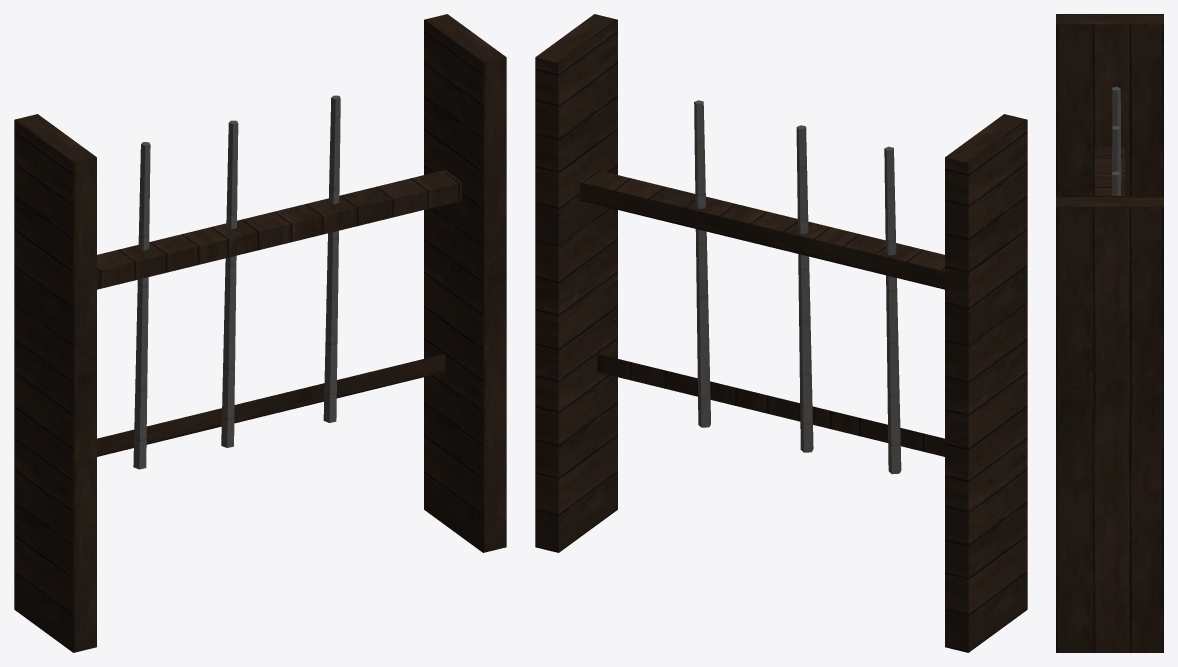
The model's file is weapon_rack_01.glb.
3 renders of one model, left to right at view 1: azimuth 30°, elevation 25°; view 2: azimuth 150°, elevation 25°; view 3: azimuth 270°, elevation 25°, orthographic. The views are drawn at different scales.
Visible parts, largest first — view 1: weapon_rack_01; view 2: weapon_rack_01; view 3: weapon_rack_01.
Boxes of the visible parts, x1,y1,x2,y2 form: weapon_rack_01: (14, 14, 506, 652); weapon_rack_01: (535, 14, 1027, 652); weapon_rack_01: (1056, 14, 1163, 652).
Bounding box in the file's own units: 1.48 × 1.6 × 0.35.
2 materials, 2 textured.
